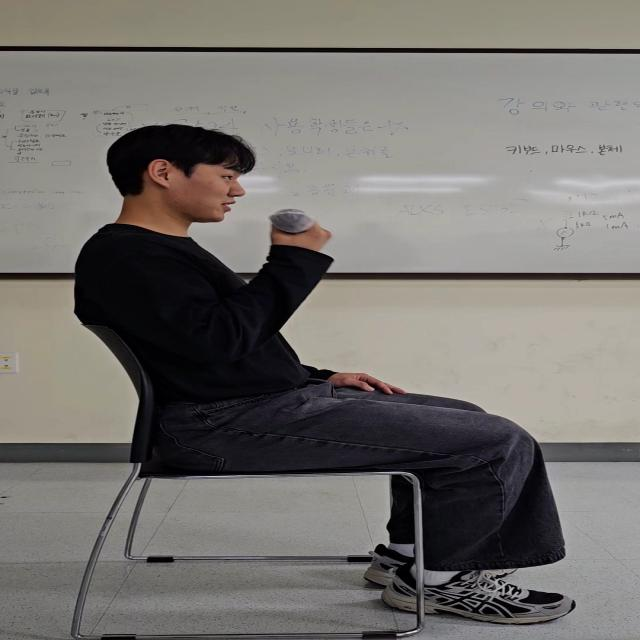curl: (227, 242, 306, 347), (134, 266, 223, 348)
